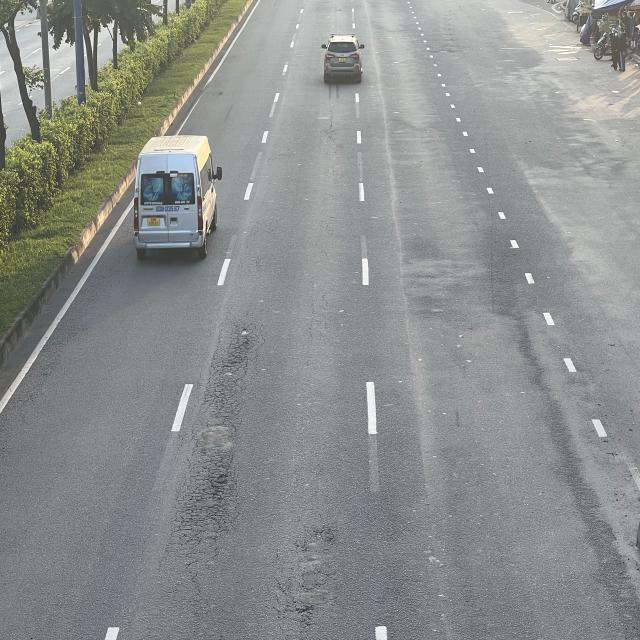car: (321, 36, 366, 84)
van: (132, 136, 220, 263)
